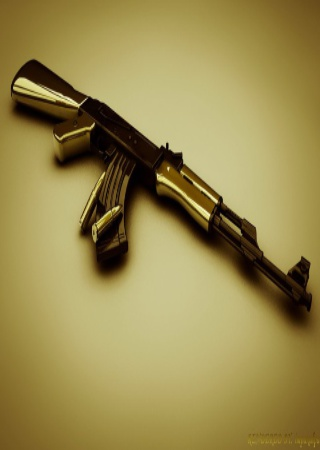rifle: (11, 49, 312, 315)
